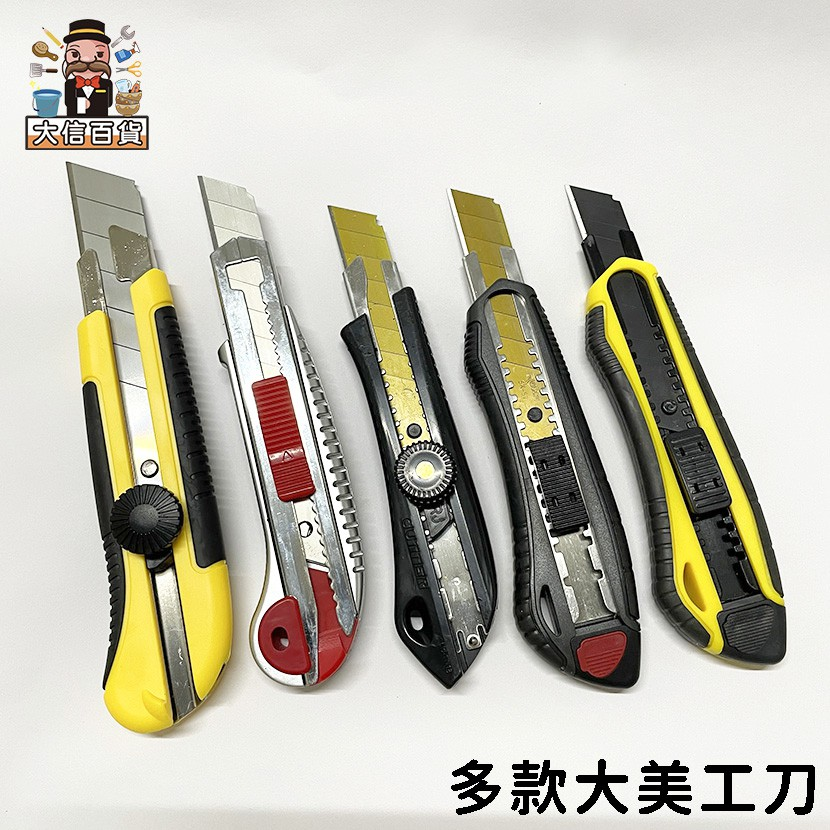cutter: (563, 183, 790, 668), (440, 184, 645, 693), (64, 160, 236, 736), (193, 171, 369, 689), (323, 201, 501, 692)
